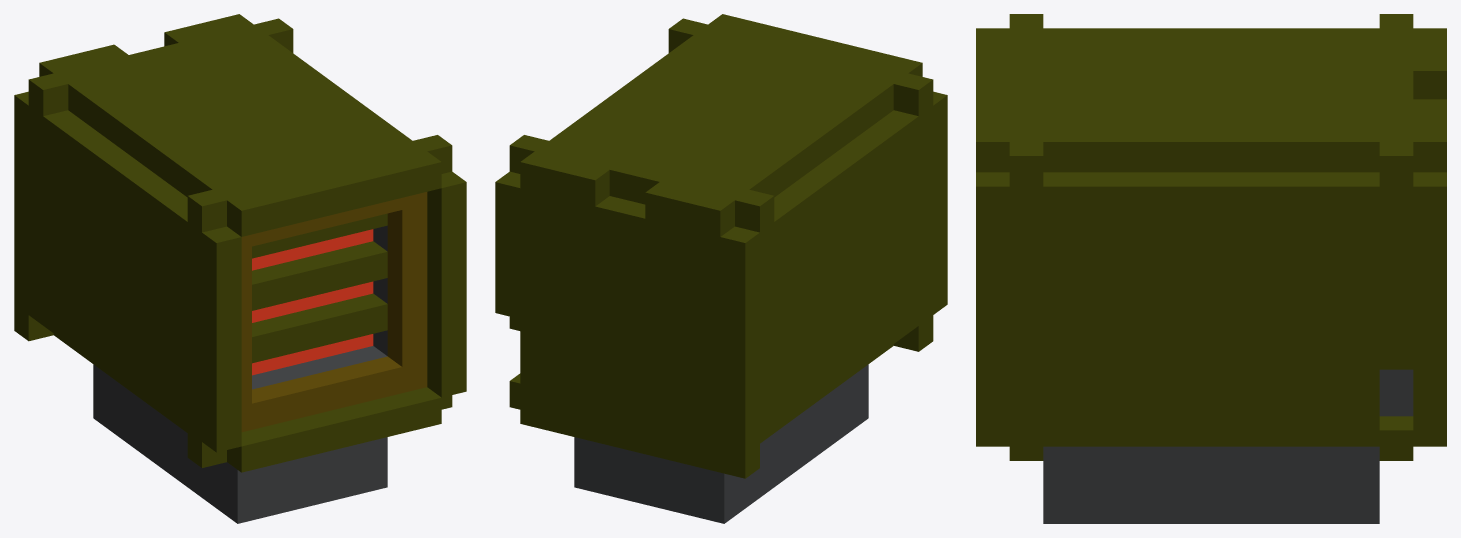
The model's file is Other-13.obj.
The picture shows the model from 3 angles, left to right: view 1: azimuth 30°, elevation 25°; view 2: azimuth 150°, elevation 25°; view 3: azimuth 270°, elevation 25°; orthographic projection. The views are drawn at different scales.
Bounding box in the file's own units: 1 × 1.3 × 1.4.
Materials: 1 (1 with a texture image).
